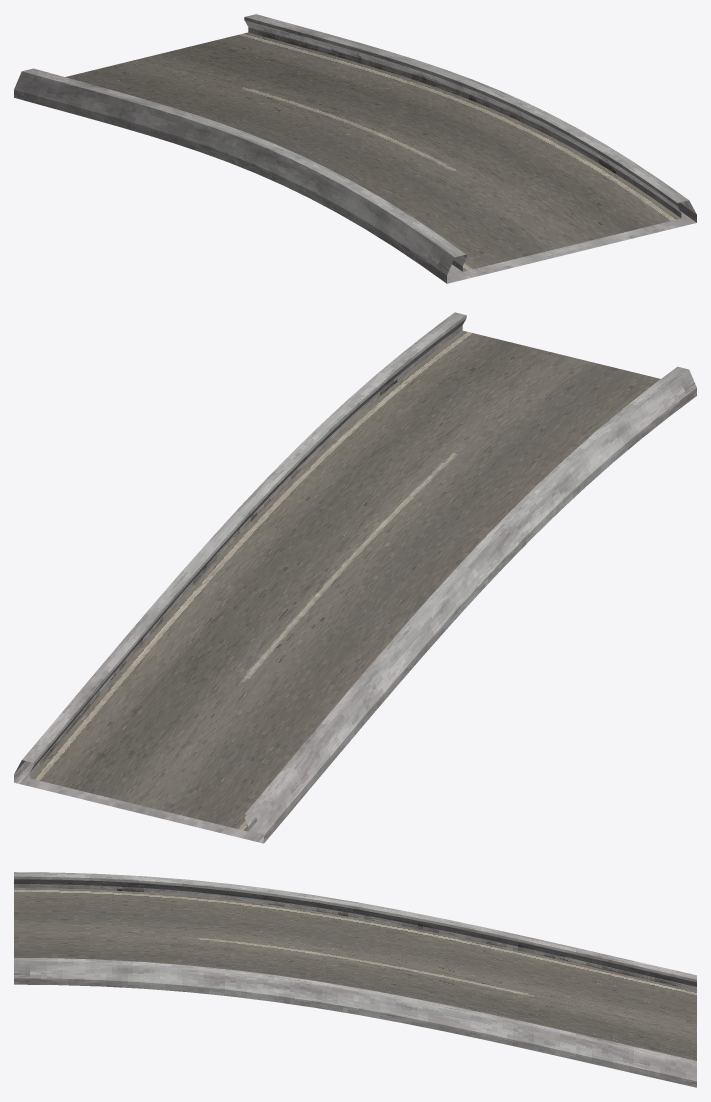
File: straight3.glb
3 renders of one model, top to bottom at view 1: azimuth 30°, elevation 25°; view 2: azimuth 150°, elevation 25°; view 3: azimuth 270°, elevation 25°, orthographic. The views are drawn at different scales.
Parts seen in each view (by area): view 1: road-Straight-Flat-BiSlopeDown-Down2-Center-Size3; view 2: road-Straight-Flat-BiSlopeDown-Down2-Center-Size3; view 3: road-Straight-Flat-BiSlopeDown-Down2-Center-Size3.
Part boxes in pixels (x1=…): road-Straight-Flat-BiSlopeDown-Down2-Center-Size3: x1=14, y1=14, x2=696, y2=283; road-Straight-Flat-BiSlopeDown-Down2-Center-Size3: x1=14, y1=312, x2=696, y2=843; road-Straight-Flat-BiSlopeDown-Down2-Center-Size3: x1=14, y1=872, x2=696, y2=1087.
Bounding box in the file's own units: 1 × 0.5938 × 3.
2 materials, 2 textured.
